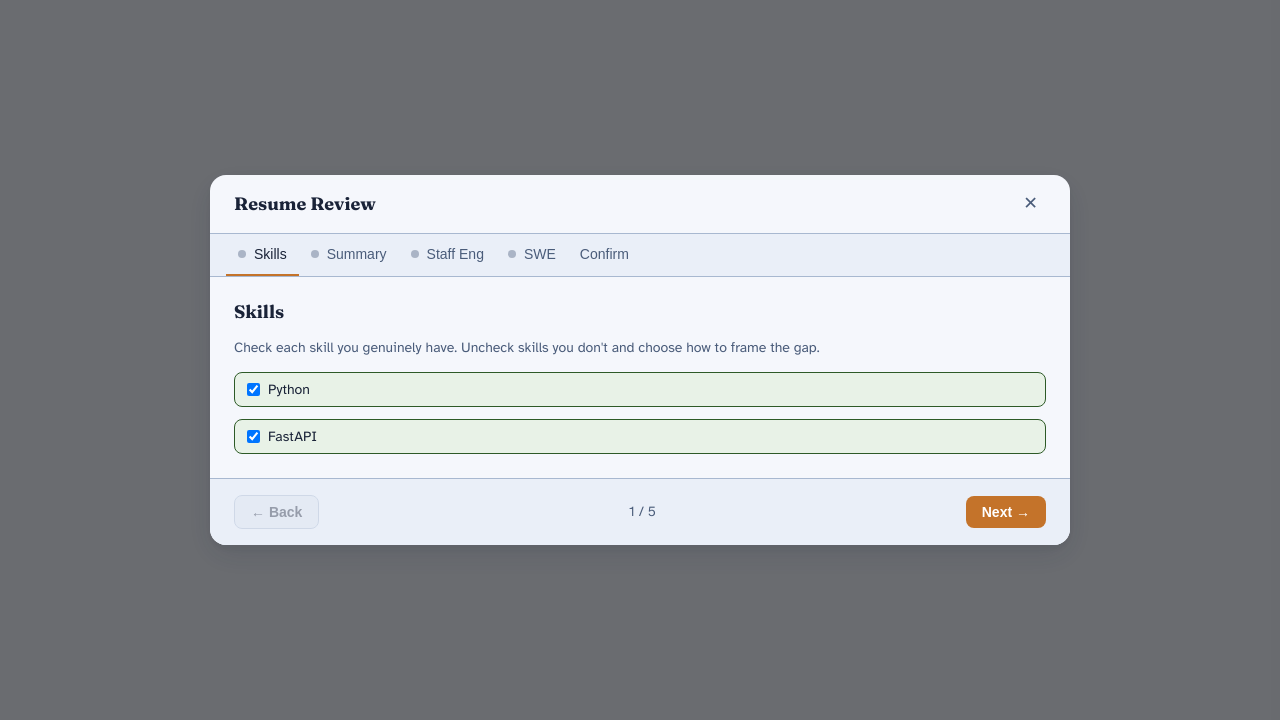
navigation › next button advances to page 2
Expected: the text with class "rrm__page-counter" shows "1", [629, 503, 656, 520]
Click the button with class "rrm__next". click: (1006, 512)
box: [966, 496, 1046, 528]
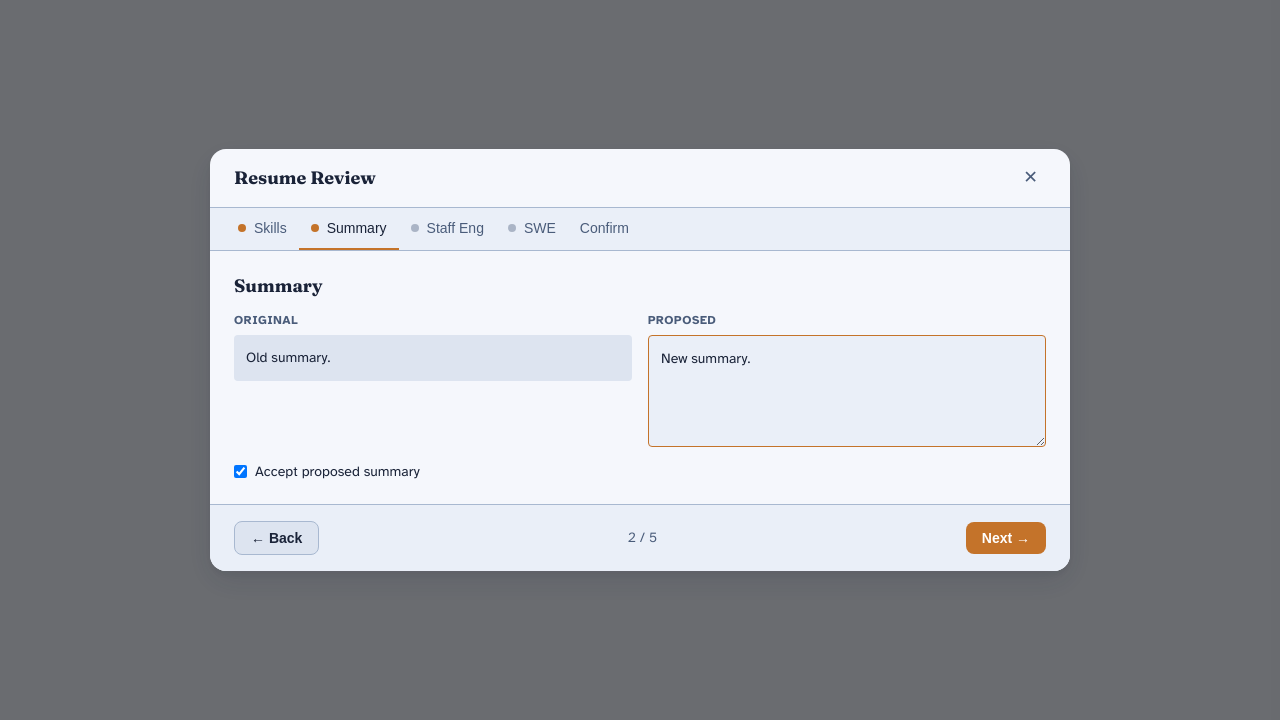
Now the text with class "rrm__page-counter" shows "2", box [628, 529, 657, 546]
